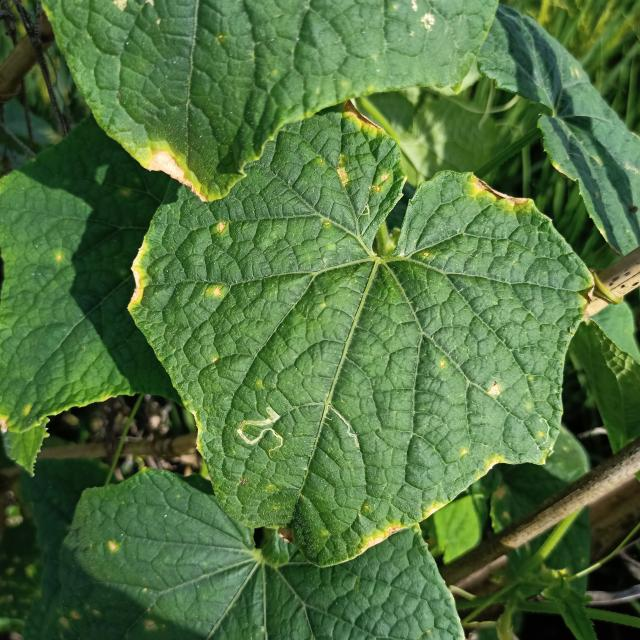disease_cucumber: (327, 148, 391, 198), (456, 444, 504, 470), (208, 281, 228, 296), (214, 220, 231, 237), (488, 379, 501, 397)
